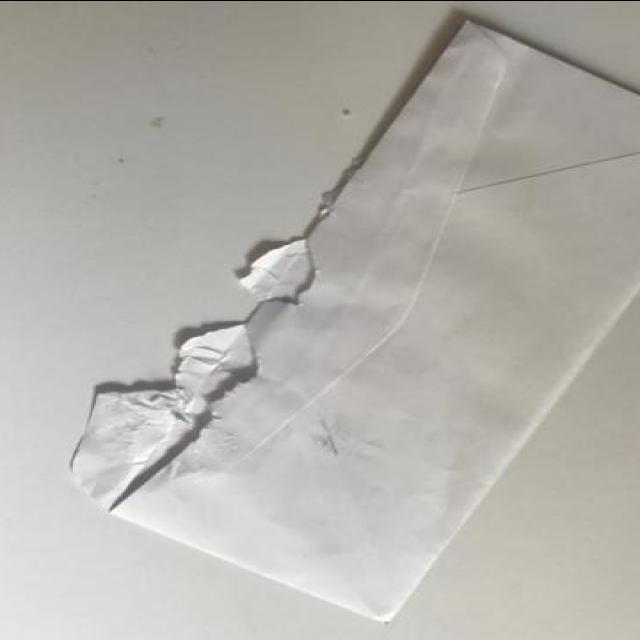kertas: (68, 11, 640, 626)
